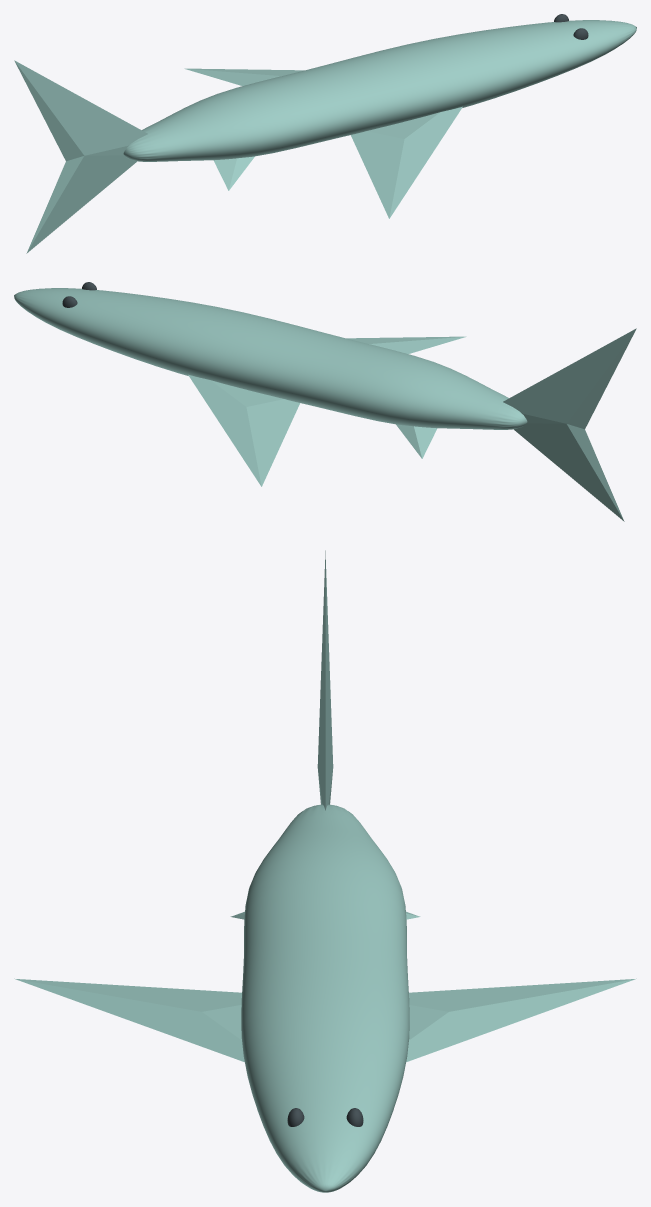
3 views of the same model, one above another, from view 1: azimuth 30°, elevation 25°; view 2: azimuth 150°, elevation 25°; view 3: azimuth 270°, elevation 25° (orthographic). The views are drawn at different scales.
Parts seen in each view (by area): view 1: Body, Tail, Pectoral, Pectoral.001, Pelvic; view 2: Body, Tail, Pectoral.001, Pectoral, Pelvic.001; view 3: Body, Pectoral, Pectoral.001, Tail.
Boxes of the visible parts, x1=… form: Body: x1=123, y1=20, x2=636, y2=161; Tail: x1=14, y1=60, x2=147, y2=253; Pectoral: x1=351, y1=106, x2=462, y2=218; Pectoral.001: x1=184, y1=68, x2=304, y2=85; Pelvic: x1=213, y1=156, x2=254, y2=190; Body: x1=14, y1=288, x2=527, y2=429; Tail: x1=503, y1=328, x2=636, y2=521; Pectoral.001: x1=188, y1=374, x2=299, y2=486; Pectoral: x1=346, y1=336, x2=466, y2=353; Pelvic.001: x1=396, y1=424, x2=437, y2=458; Body: x1=241, y1=804, x2=409, y2=1192; Pectoral: x1=14, y1=978, x2=244, y2=1061; Pectoral.001: x1=406, y1=978, x2=636, y2=1061; Tail: x1=317, y1=550, x2=333, y2=810.
Bounding box in the file's own units: 252 × 76 × 144.
